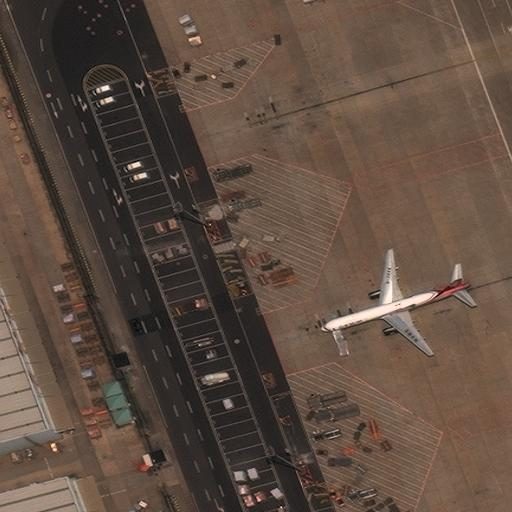Large Civil Transport: (321, 250, 472, 357)
